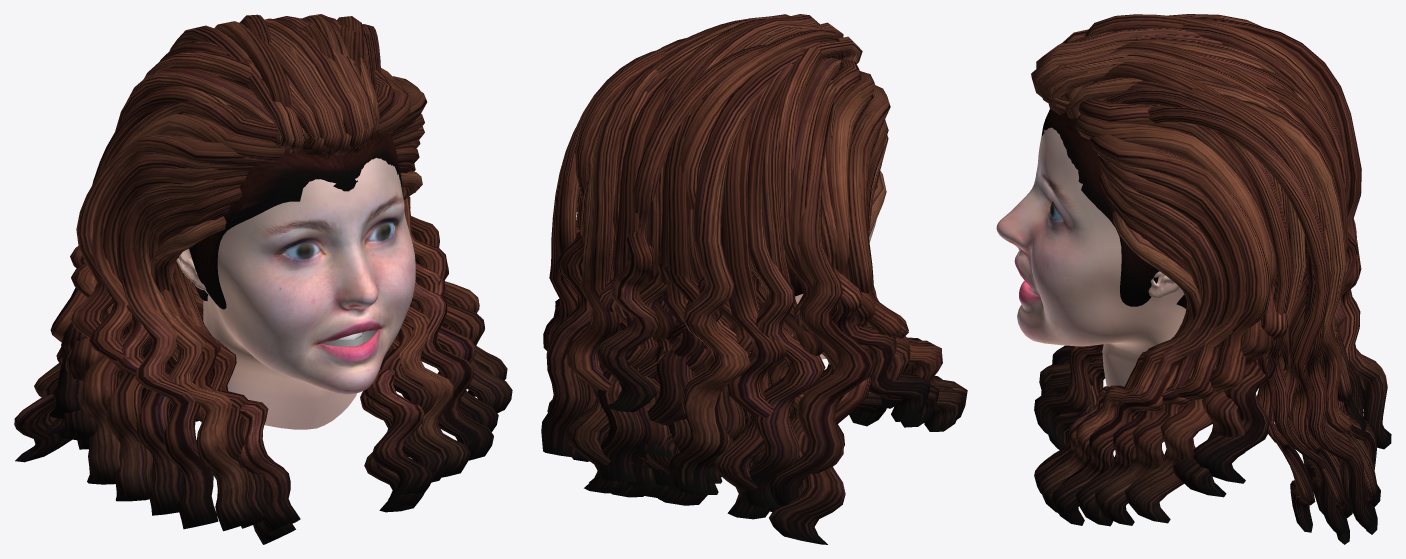
3 renders of one model, left to right at view 1: azimuth 30°, elevation 25°; view 2: azimuth 150°, elevation 25°; view 3: azimuth 270°, elevation 25°, orthographic. The views are drawn at different scales.
Parts seen in each view (by area): view 1: eh; view 2: eh; view 3: eh.
Boxes of the visible parts, bbox=[...] form: eh: bbox=[14, 14, 512, 544]; eh: bbox=[541, 14, 967, 544]; eh: bbox=[996, 14, 1391, 544].
Bounding box in the file's own units: 365 × 387 × 298.
